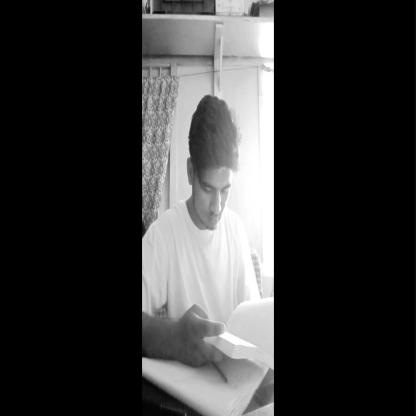Distracted: (186, 93, 239, 231)
